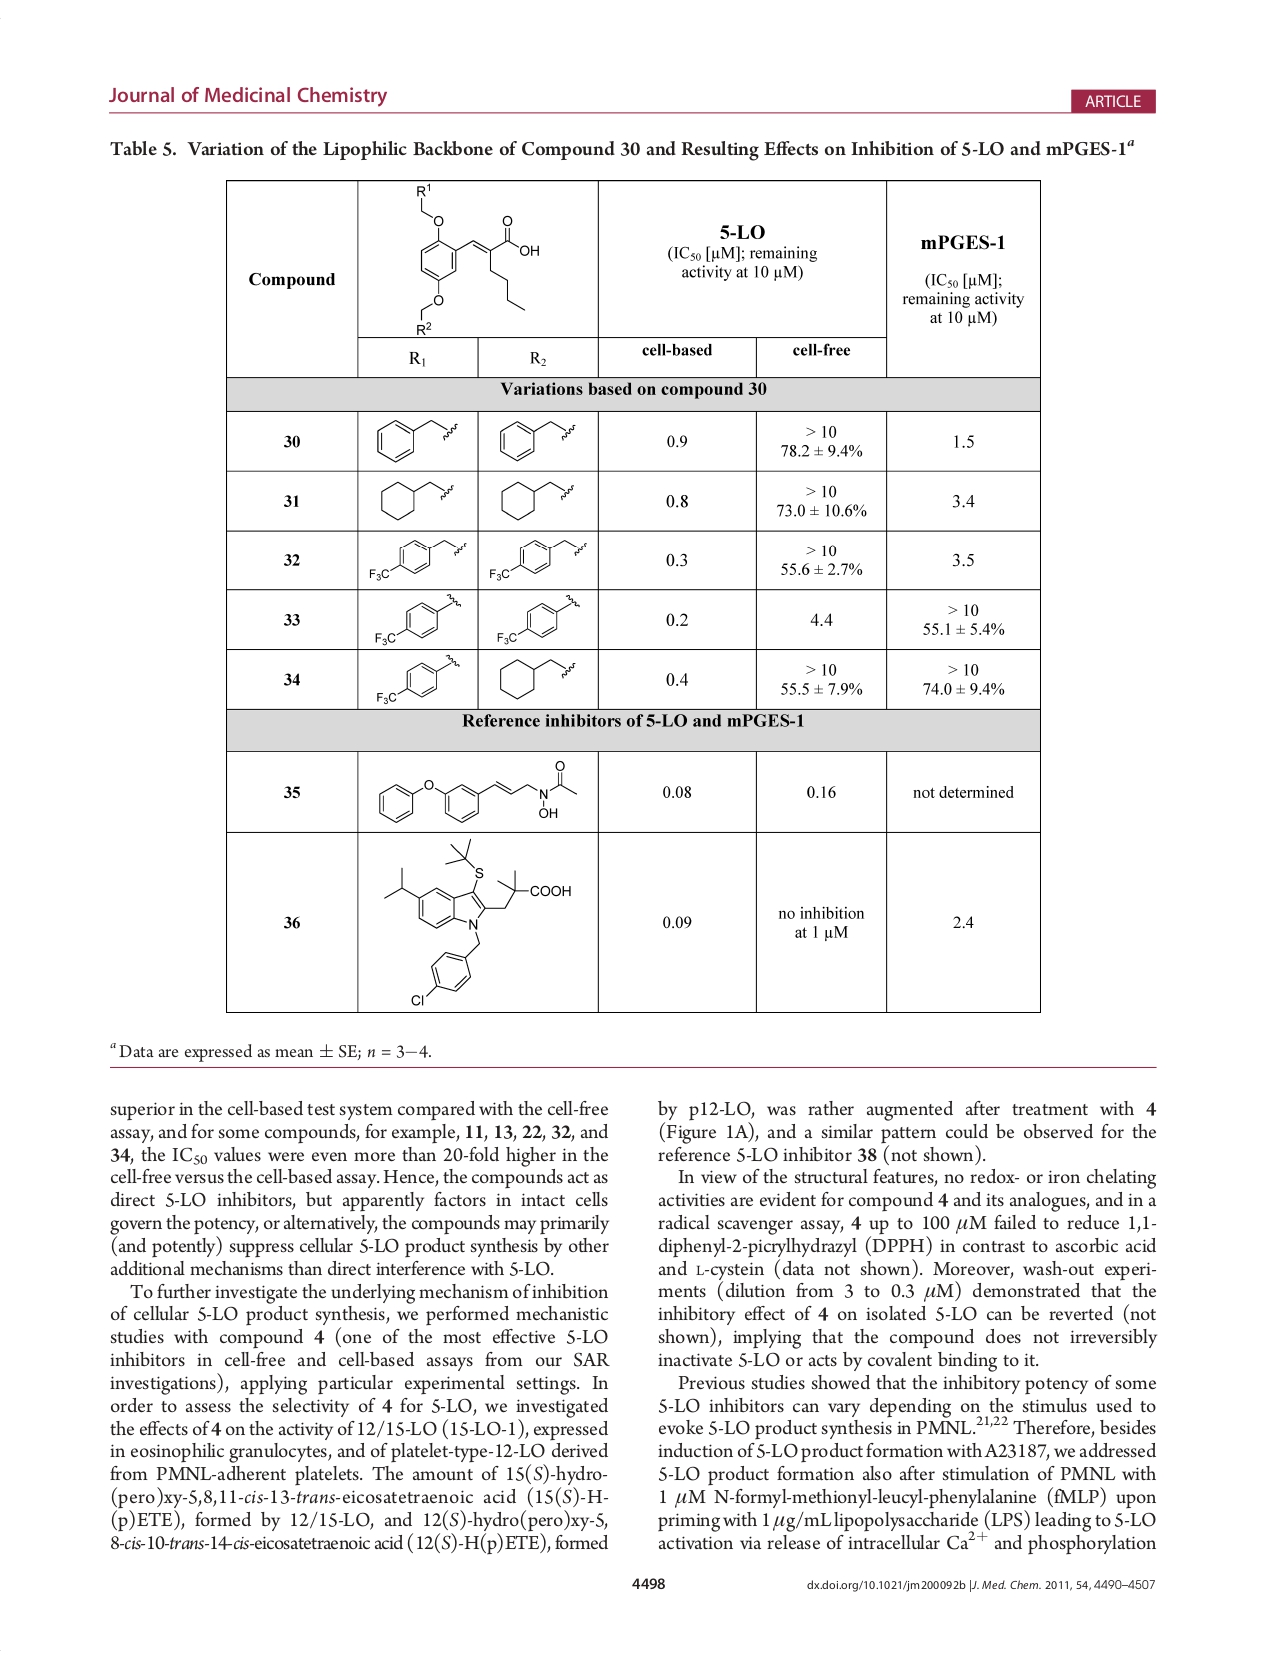exist_molecular: (382, 836, 576, 1009), (410, 180, 543, 334), (375, 758, 581, 826), (366, 536, 469, 584), (372, 590, 461, 645), (493, 594, 581, 646), (374, 654, 461, 706), (488, 539, 590, 582), (371, 415, 461, 464), (493, 473, 578, 523), (493, 656, 578, 702), (493, 418, 578, 463), (376, 477, 456, 523)
